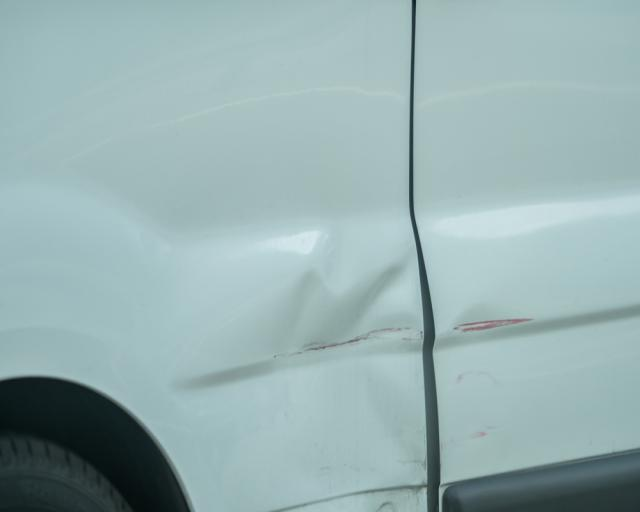dent: (119, 94, 428, 499)
scratch: (451, 315, 535, 336)
